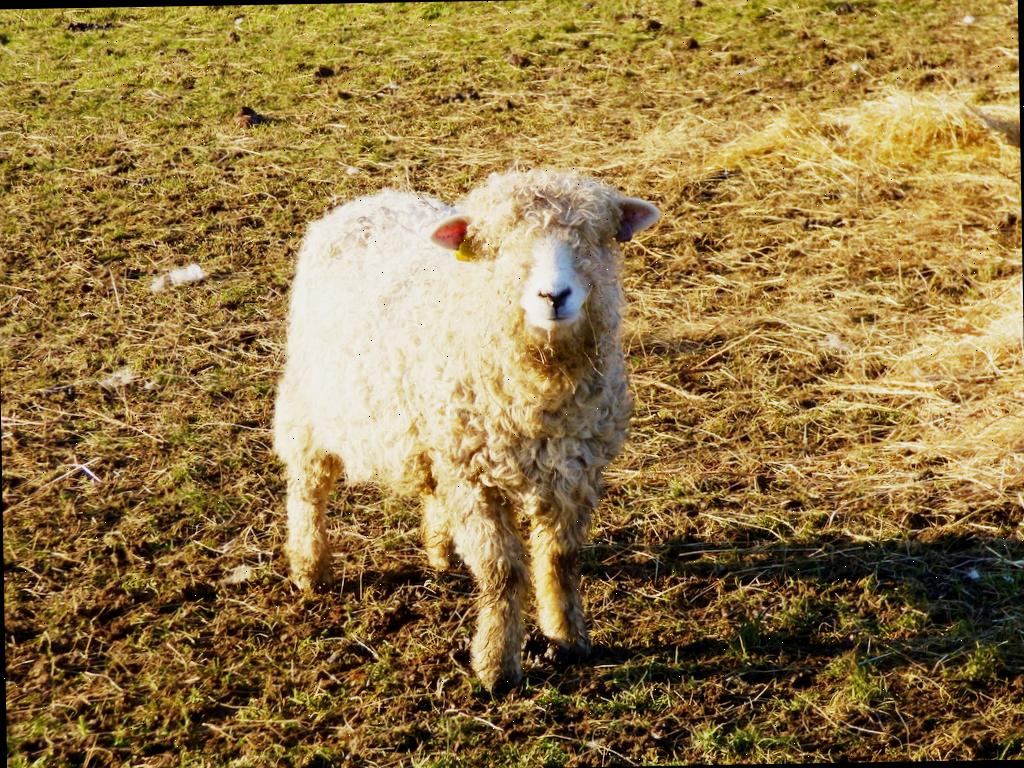Sheep: (268, 162, 672, 698)
